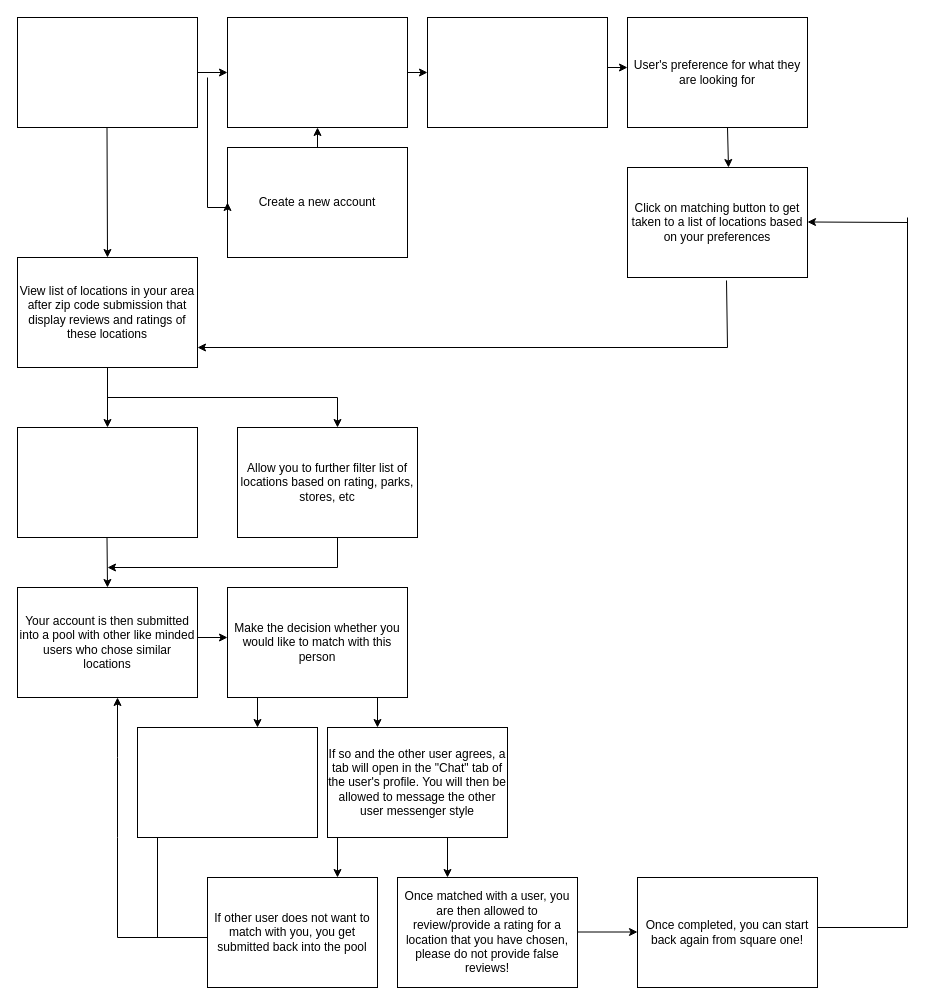
Some shapes in this 933 by 1005 pixel diagram are drawn without their labels. Here are the shapes that lost their labels. From the top down, the box of each, then its label:
(16, 16, 198, 128): Index(homepage
(226, 16, 408, 128): User Login
(426, 16, 608, 128): User's dashboard/profile
(16, 426, 198, 538): Queue a list of locations you would like to visit
(136, 726, 318, 838): If not, you get redirected back to the pool in hopes of finding another match
